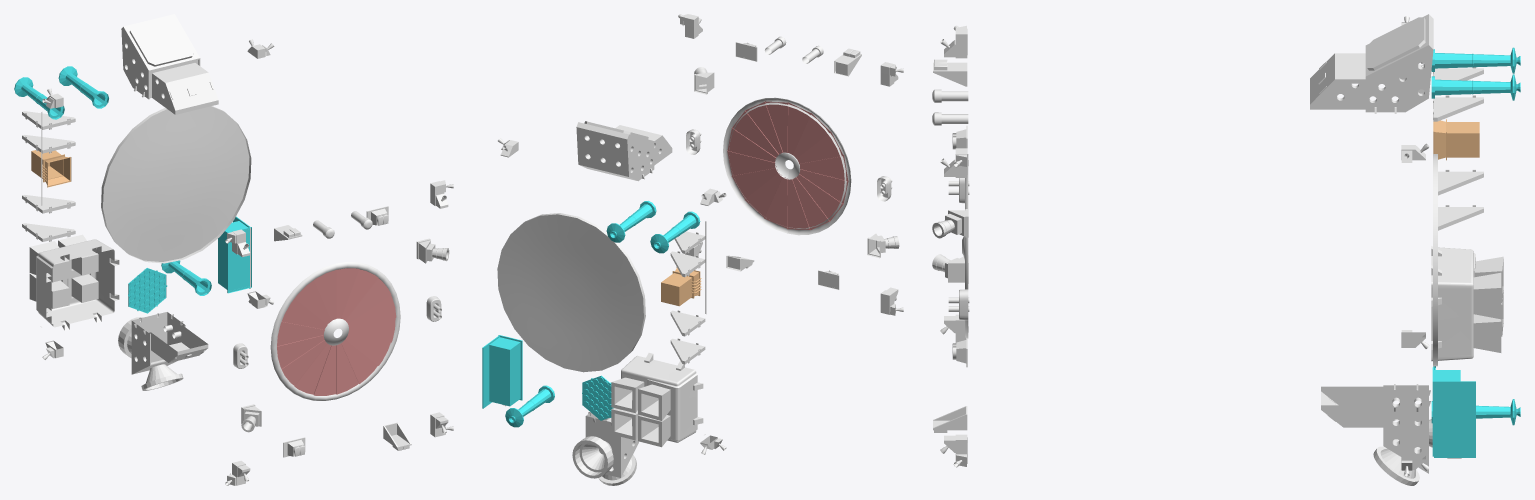
3 views of the same model, side by side, from view 1: azimuth 30°, elevation 25°; view 2: azimuth 150°, elevation 25°; view 3: azimuth 270°, elevation 25° (orthographic). The views are drawn at different scales.
Visible parts, largest first — view 1: 卫星主体_04, 对象005, 对象003, 对象001, 对象004, 对象002; view 2: 卫星主体_04, 对象005, 对象001, 对象003, 对象004, 对象002; view 3: 卫星主体_04, 对象003, 对象001, 对象004, 对象002.
Boxes of the visible parts, x1,y1,x2,y2 form: 卫星主体_04: [22, 39, 453, 485]; 对象005: [277, 268, 396, 395]; 对象003: [121, 14, 218, 114]; 对象001: [14, 66, 251, 313]; 对象004: [118, 312, 208, 390]; 对象002: [31, 150, 71, 187]; 卫星主体_04: [497, 14, 903, 454]; 对象005: [727, 101, 848, 230]; 对象001: [482, 201, 700, 427]; 对象003: [576, 121, 672, 181]; 对象004: [572, 412, 638, 485]; 对象002: [661, 267, 701, 306]; 卫星主体_04: [932, 16, 1503, 476]; 对象003: [1310, 14, 1433, 113]; 对象001: [1431, 47, 1520, 457]; 对象004: [1321, 384, 1461, 485]; 对象002: [1433, 119, 1479, 160].
Size of the model in its own units: 2198 by 3332 by 3920.
